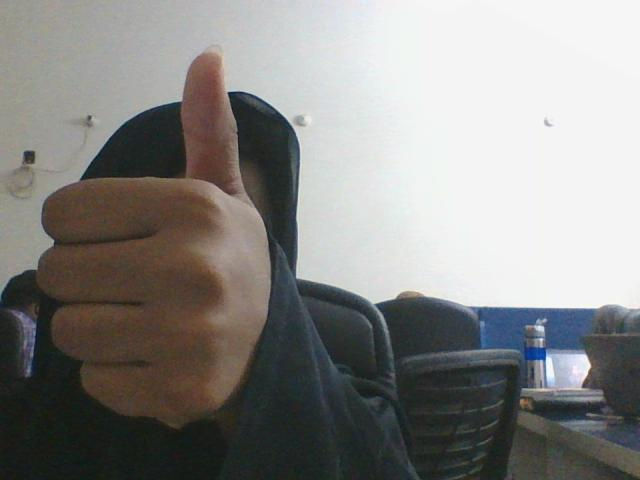thumbs-up: (35, 49, 277, 416)
